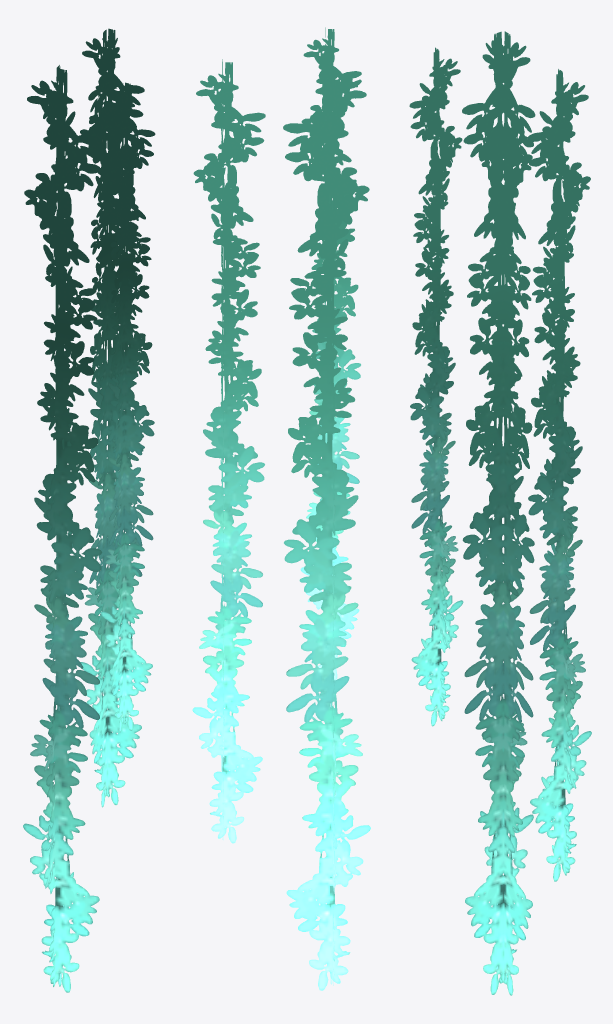
Rendered from SM_ENV_plant_ancient_15_02.fbx.
The picture shows the model from 3 angles, left to right: view 1: azimuth 30°, elevation 25°; view 2: azimuth 150°, elevation 25°; view 3: azimuth 270°, elevation 25°; orthographic projection. The views are drawn at different scales.
Visible parts, largest first — view 1: SM_ENV_plant_ancient_15_02_LOD0; view 2: SM_ENV_plant_ancient_15_02_LOD0; view 3: SM_ENV_plant_ancient_15_02_LOD0.
Boxes of the visible parts, x1,y1,x2,y2 form: SM_ENV_plant_ancient_15_02_LOD0: [23, 28, 155, 992]; SM_ENV_plant_ancient_15_02_LOD0: [192, 27, 370, 990]; SM_ENV_plant_ancient_15_02_LOD0: [409, 31, 591, 995].
Size of the model in its own units: 57.88 by 362 by 64.89.
